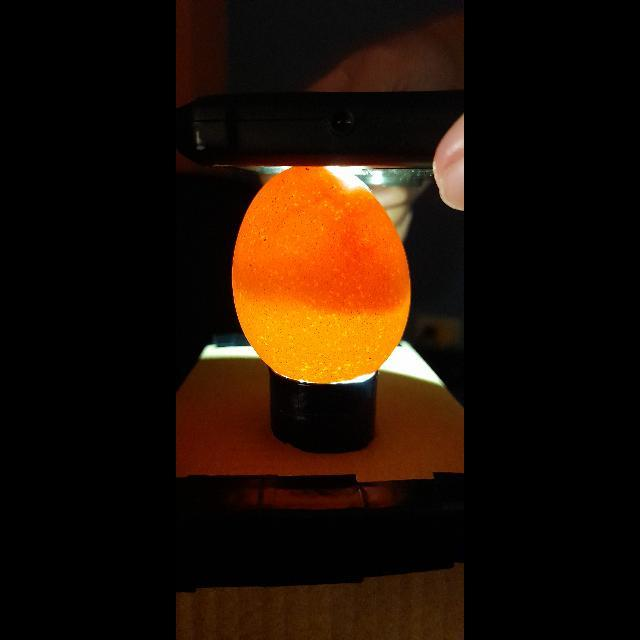Fertile: (223, 165, 411, 381)
